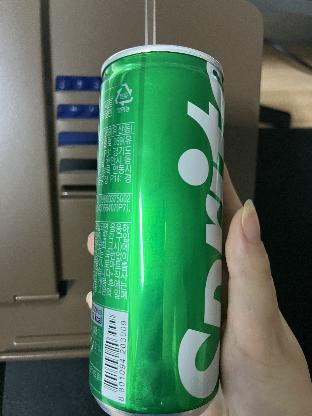Can: (88, 43, 228, 416)
